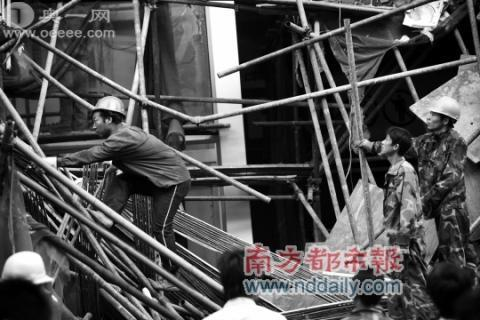head: (375, 125, 419, 160)
helmet: (88, 93, 130, 135), (422, 96, 459, 138)
